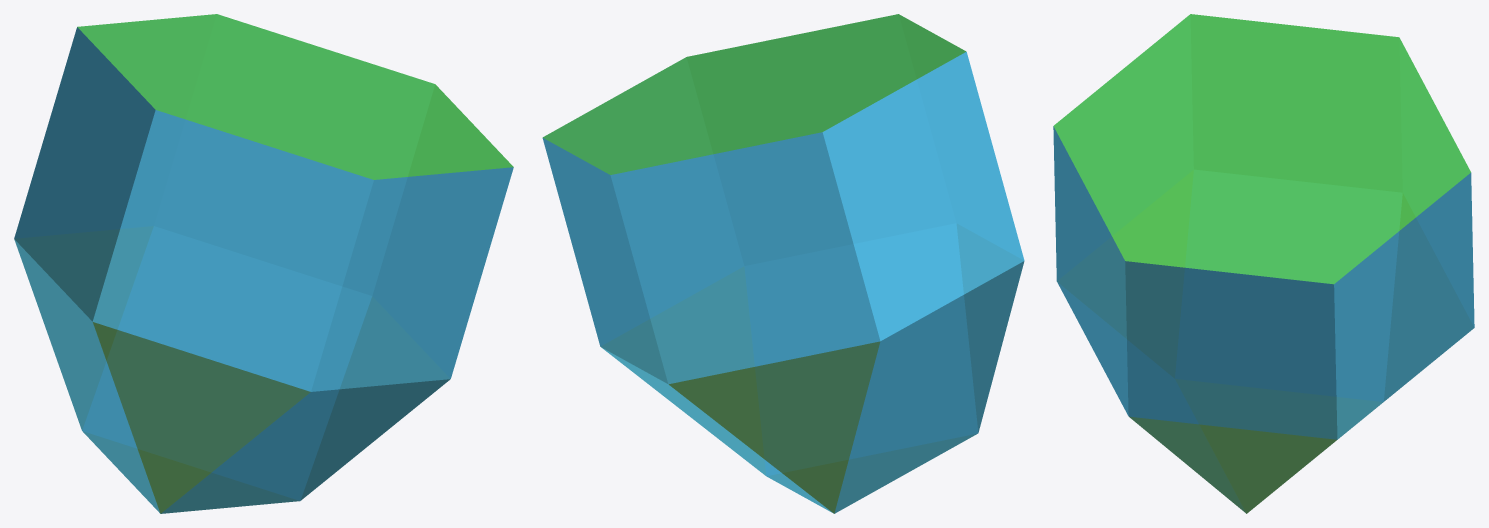
Rendered from j18_elongated_triangular_cupola.obj.
3 views of the same model, side by side, from view 1: azimuth 30°, elevation 25°; view 2: azimuth 150°, elevation 25°; view 3: azimuth 270°, elevation 25° (orthographic). The views are drawn at different scales.
Size of the model in its own units: 1.81 by 1.89 by 1.71.
